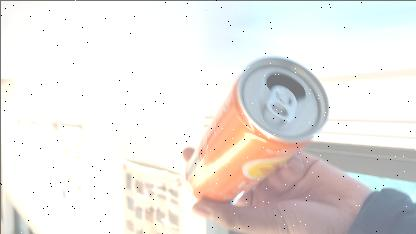Can: (185, 56, 329, 202)
